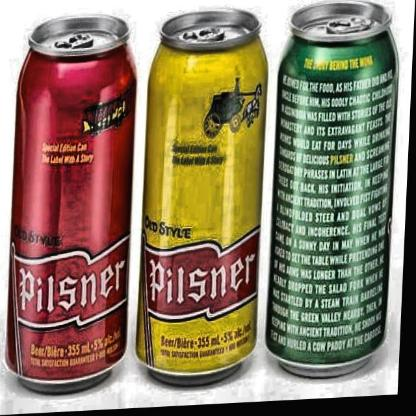Can: (264, 0, 400, 378), (4, 16, 136, 396), (136, 8, 268, 388)
